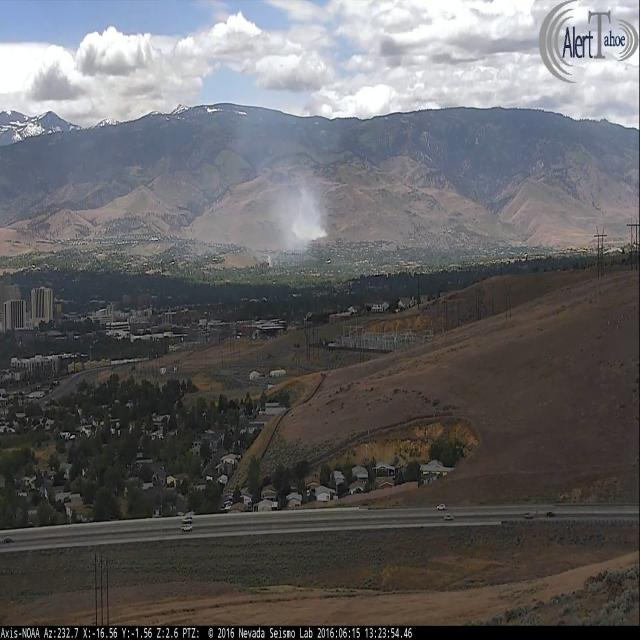smoke: (273, 185, 325, 262)
